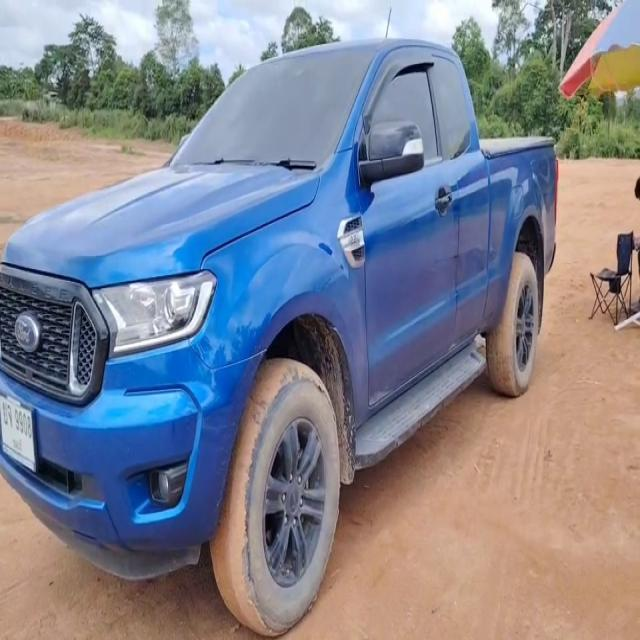Digit: (14, 408, 32, 441)
Provincename: (13, 435, 22, 455)
Thaichar: (2, 402, 13, 429)
